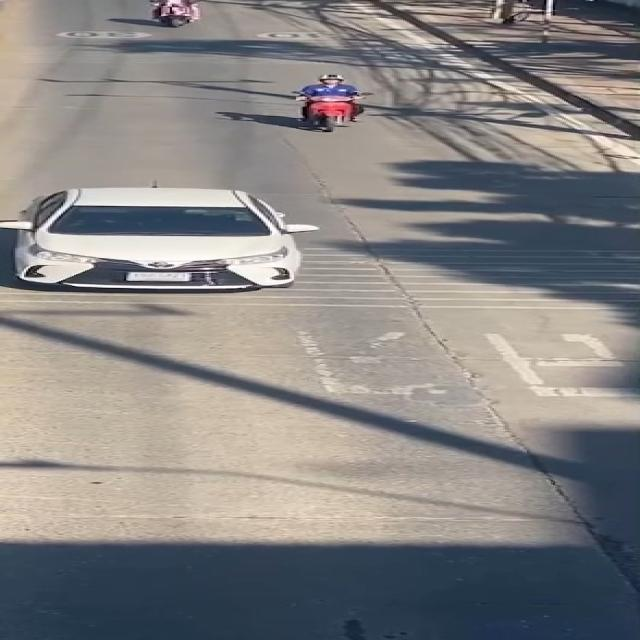car: (0, 176, 348, 317)
